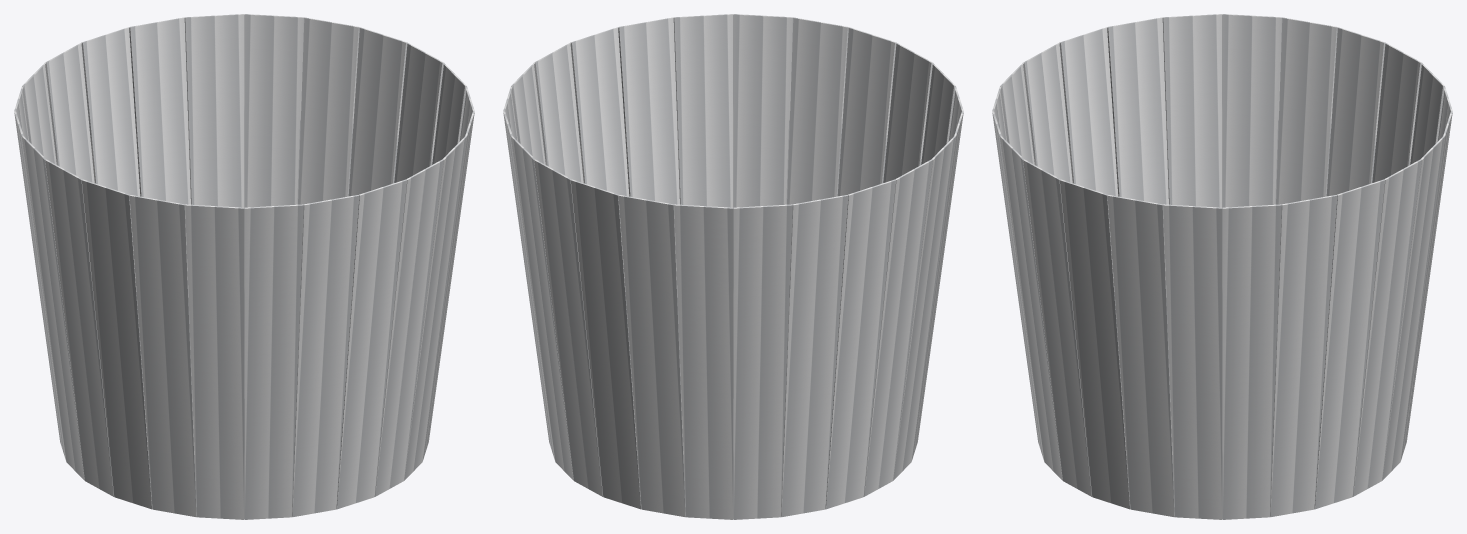
3 views of the same model, side by side, from view 1: azimuth 30°, elevation 25°; view 2: azimuth 150°, elevation 25°; view 3: azimuth 270°, elevation 25° (orthographic).
Visible parts, largest first — view 1: mesh1_mesh1-geometry; view 2: mesh1_mesh1-geometry; view 3: mesh1_mesh1-geometry.
Boxes of the visible parts, box(x1,y1,x2,y2) form: mesh1_mesh1-geometry: box(14, 14, 474, 519); mesh1_mesh1-geometry: box(503, 14, 963, 519); mesh1_mesh1-geometry: box(992, 14, 1452, 519).
Size of the model in its own units: 0.6168 by 0.4889 by 0.6168.
